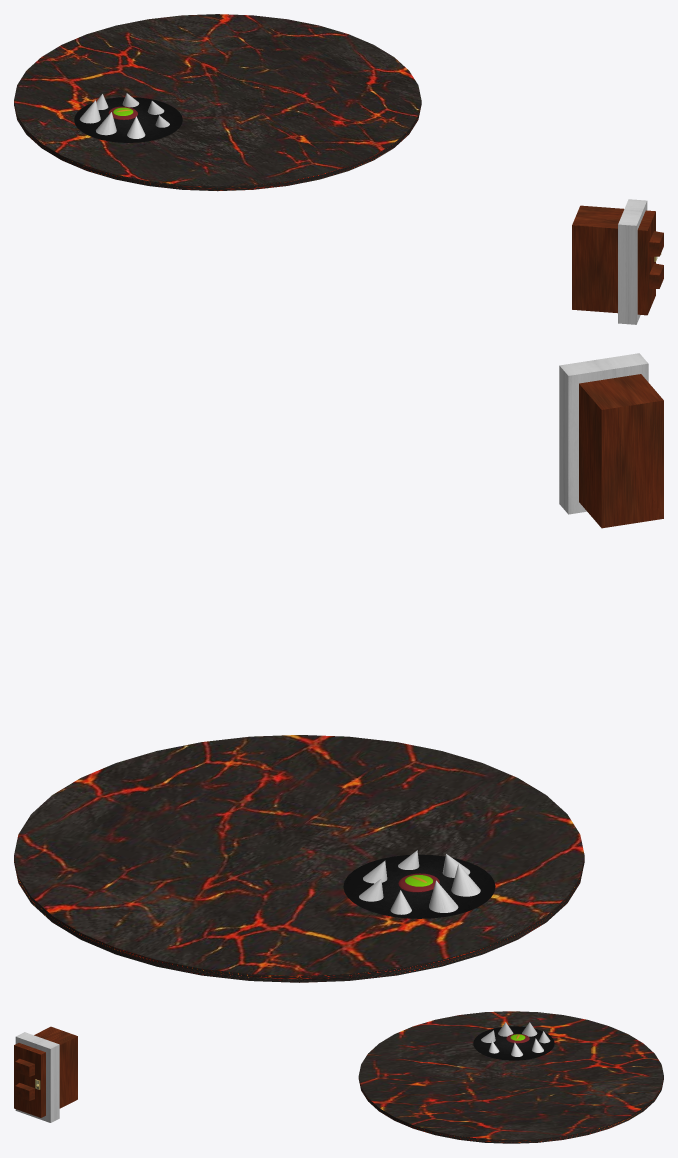
Rendered from Zaki'sDoorProject.fbx.
3 renders of one model, top to bottom at view 1: azimuth 30°, elevation 25°; view 2: azimuth 150°, elevation 25°; view 3: azimuth 270°, elevation 25°, orthographic. The views are drawn at different scales.
Visible parts, largest first — view 1: Cylinder_1, Cube_1, Cube, Disc_1; view 2: Cylinder_1, Cube_1, Disc_1, Cube; view 3: Cylinder_1, Cube_1, Cube, Disc_1, Cube_2, Cube_3.
Boxes of the visible parts, x1,y1,x2,y2 form: Cylinder_1: [14, 14, 421, 191]; Cube_1: [572, 205, 655, 315]; Cube: [618, 199, 647, 324]; Disc_1: [74, 97, 182, 142]; Cylinder_1: [14, 735, 584, 982]; Cube_1: [579, 374, 663, 528]; Disc_1: [343, 854, 495, 918]; Cube: [559, 353, 648, 514]; Cylinder_1: [358, 1011, 663, 1143]; Cube_1: [14, 1026, 77, 1117]; Cube: [15, 1032, 59, 1122]; Disc_1: [473, 1026, 554, 1060]; Cube_2: [15, 1058, 34, 1076]; Cube_3: [15, 1083, 34, 1100].
Bounding box in the file's own units: 750 × 219 × 1597.
Materials: 8 (5 with a texture image).
